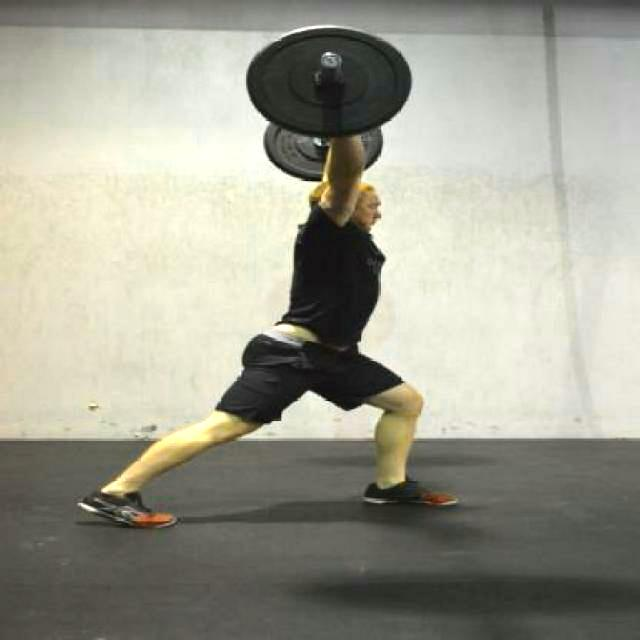barbell: (243, 17, 425, 141)
